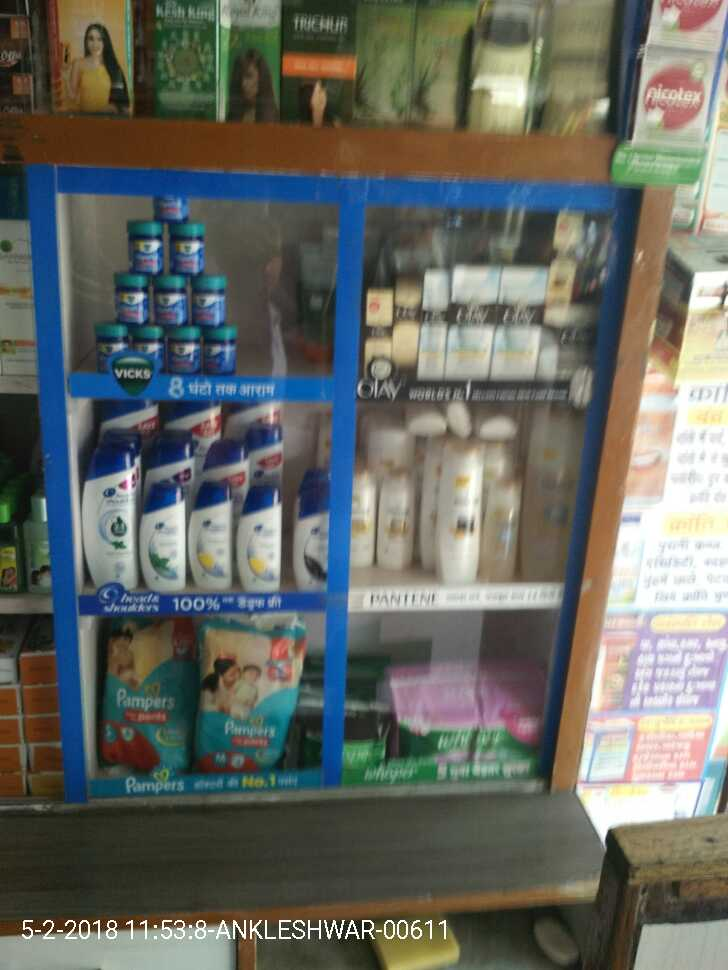beauty: (525, 404, 580, 588), (425, 434, 478, 583), (86, 440, 134, 597), (484, 265, 553, 373), (287, 477, 345, 600), (132, 480, 192, 597), (230, 479, 283, 593), (187, 477, 234, 591), (445, 258, 482, 382), (413, 258, 445, 391), (482, 490, 521, 579), (362, 289, 392, 367)
pharmacy: (197, 625, 306, 781), (388, 656, 533, 764), (92, 626, 189, 774), (121, 215, 169, 273), (91, 325, 130, 379), (197, 322, 239, 372), (174, 214, 208, 274), (192, 269, 226, 329), (158, 323, 197, 374), (116, 277, 154, 325), (157, 268, 188, 322)
